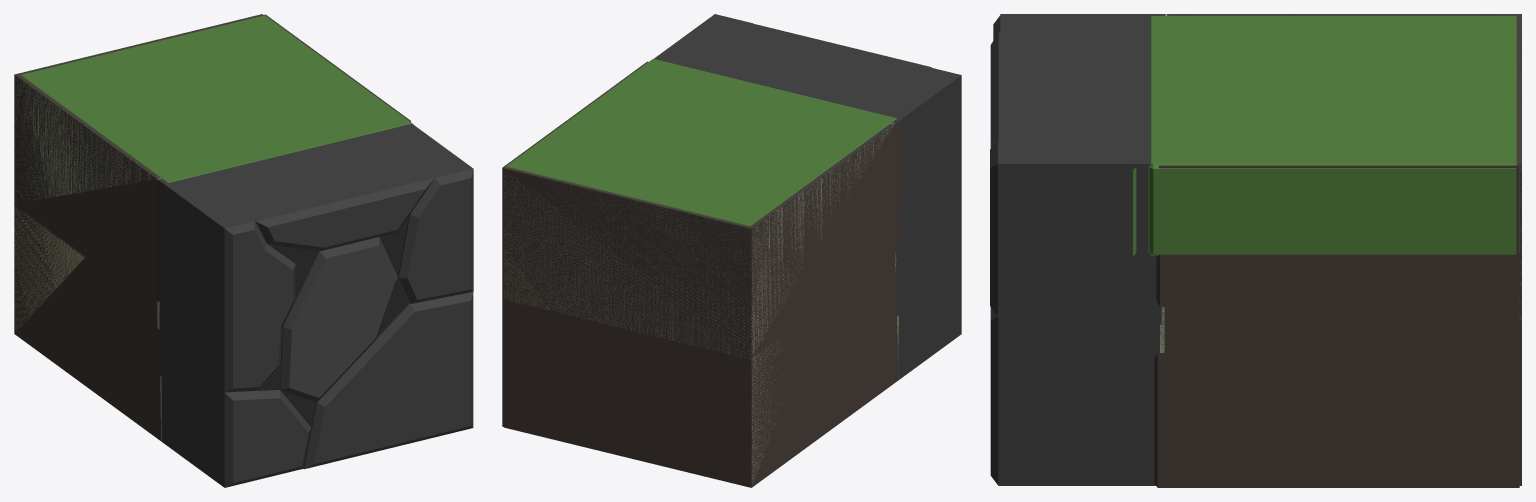
3 views of the same model, side by side, from view 1: azimuth 30°, elevation 25°; view 2: azimuth 150°, elevation 25°; view 3: azimuth 270°, elevation 25° (orthographic). The views are drawn at different scales.
Parts seen in each view (by area): view 1: Cube.009, Cube, Cube.001, Cube.011, Cube.006, Cube.005, Cube.004, Cube.007; view 2: Cube.001, Cube, Cube.009, Cube.004, Cube.010, Cube.011, Cube.007, Cube.006, Cube.005, Cube.003; view 3: Cube, Cube.003, Cube.009, Cube.001, Cube.004.
Boxes of the visible parts, <box> form: Cube.009: <box>81,123,473,487</box>; Cube: <box>21,15,413,182</box>; Cube.001: <box>14,14,263,440</box>; Cube.011: <box>15,87,157,308</box>; Cube.006: <box>14,76,161,441</box>; Cube.005: <box>14,77,160,253</box>; Cube.004: <box>14,14,263,257</box>; Cube.007: <box>14,78,158,310</box>; Cube.001: <box>504,120,900,487</box>; Cube: <box>506,59,896,225</box>; Cube.009: <box>654,14,961,380</box>; Cube.004: <box>504,124,892,359</box>; Cube.010: <box>504,142,879,358</box>; Cube.011: <box>504,124,895,357</box>; Cube.007: <box>504,132,895,359</box>; Cube.006: <box>506,123,898,485</box>; Cube.005: <box>504,123,892,350</box>; Cube.003: <box>502,61,647,426</box>; Cube: <box>1133,16,1519,256</box>; Cube.003: <box>1154,164,1519,487</box>; Cube.009: <box>990,14,1165,485</box>; Cube.001: <box>1167,14,1521,485</box>; Cube.004: <box>1168,14,1521,326</box>.
Bounding box in the file's own units: 203 × 201 × 300.
